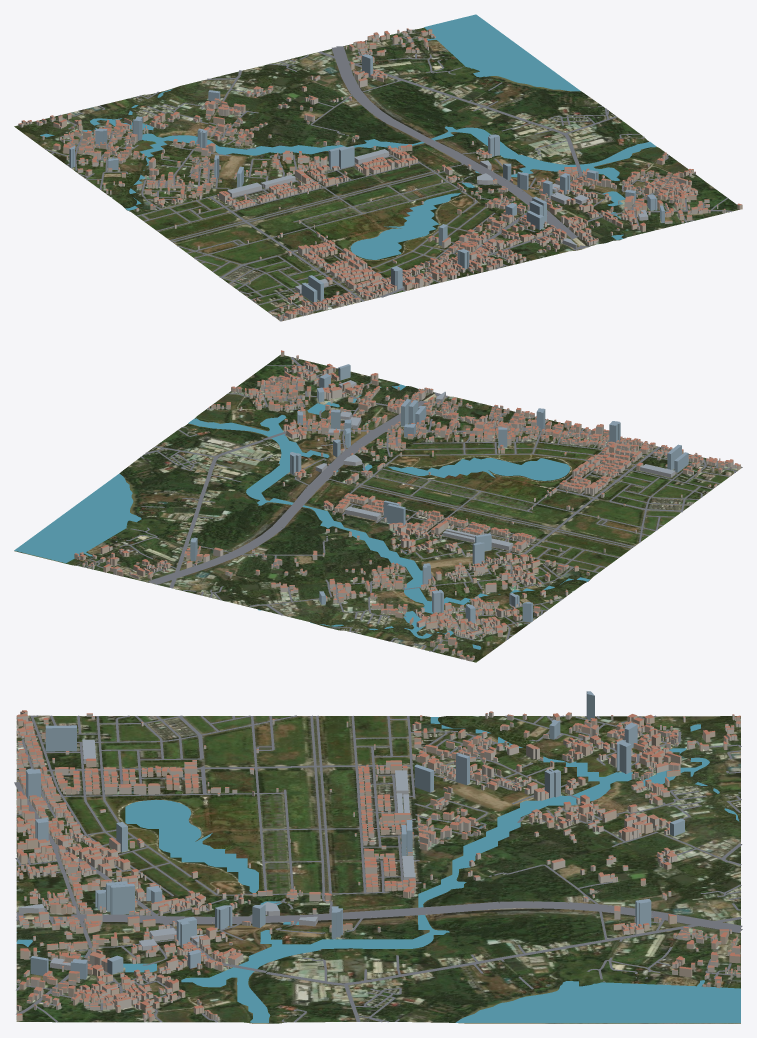
3 renders of one model, top to bottom at view 1: azimuth 30°, elevation 25°; view 2: azimuth 150°, elevation 25°; view 3: azimuth 270°, elevation 25°, orthographic. The views are drawn at different scales.
Parts seen in each view (by area): view 1: TERRAIN, BLD_TUBE_SHOPHOUSE, ROAD_METRO, WATER, BLD_INDUSTRIAL_PORT, BLD_MODERN_TOWER; view 2: TERRAIN, BLD_TUBE_SHOPHOUSE, ROAD_METRO, WATER, BLD_INDUSTRIAL_PORT, BLD_MODERN_TOWER; view 3: TERRAIN, BLD_TUBE_SHOPHOUSE, ROAD_METRO, WATER, BLD_INDUSTRIAL_PORT, BLD_MODERN_TOWER.
Part boxes in pixels (<box>): TERRAIN: <box>14,27,738,321</box>; BLD_TUBE_SHOPHOUSE: <box>18,28,742,320</box>; ROAD_METRO: <box>45,29,731,321</box>; WATER: <box>40,14,655,259</box>; BLD_INDUSTRIAL_PORT: <box>28,32,709,320</box>; BLD_MODERN_TOWER: <box>69,54,664,302</box>; TERRAIN: <box>14,354,741,662</box>; BLD_TUBE_SHOPHOUSE: <box>74,350,740,661</box>; ROAD_METRO: <box>77,357,742,651</box>; WATER: <box>14,384,589,649</box>; BLD_INDUSTRIAL_PORT: <box>93,364,738,659</box>; BLD_MODERN_TOWER: <box>190,364,688,623</box>; TERRAIN: <box>16,715,740,1023</box>; BLD_TUBE_SHOPHOUSE: <box>17,710,740,1021</box>; ROAD_METRO: <box>14,715,742,1022</box>; WATER: <box>16,717,740,1022</box>; BLD_INDUSTRIAL_PORT: <box>17,712,740,1010</box>; BLD_MODERN_TOWER: <box>26,691,684,979</box>.
Size of the model in its own units: 2006 by 90.25 by 2013.
2 materials, 1 textured.
